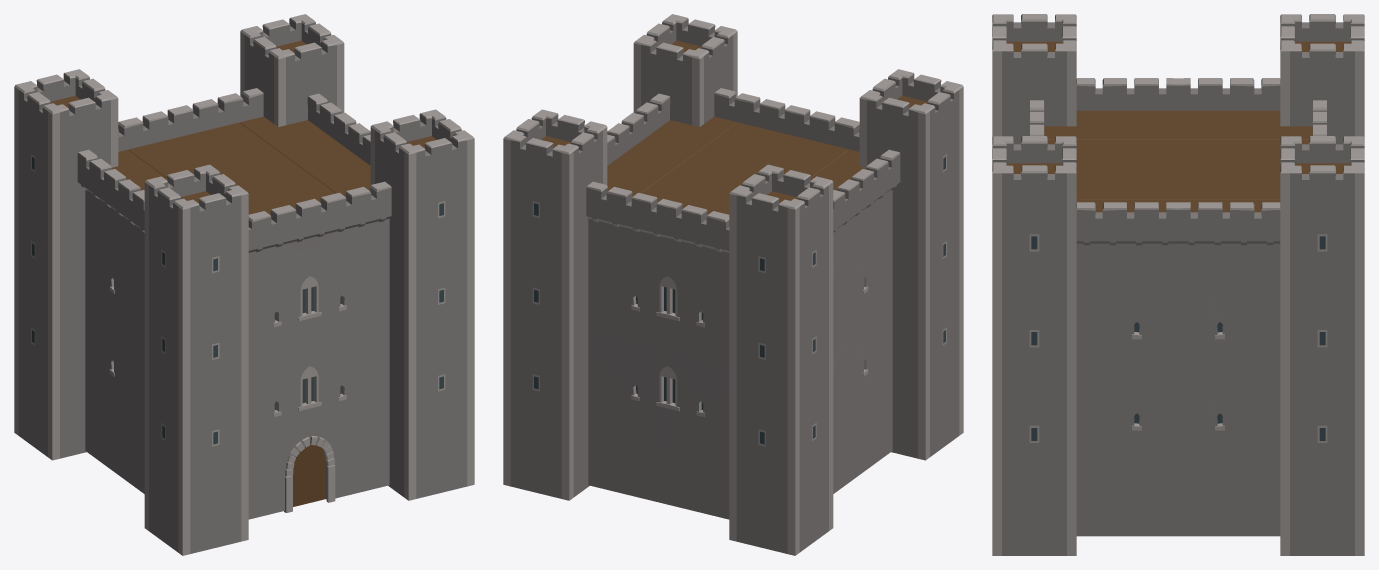
The model's file is Castle.obj.
3 renders of one model, left to right at view 1: azimuth 30°, elevation 25°; view 2: azimuth 150°, elevation 25°; view 3: azimuth 270°, elevation 25°, orthographic. The views are drawn at different scales.
Parts seen in each view (by area): view 1: castle_medieval_Scene; view 2: castle_medieval_Scene; view 3: castle_medieval_Scene.
Part boxes in pixels (x1,y1,x2,y2): castle_medieval_Scene: [14, 14, 474, 555]; castle_medieval_Scene: [503, 14, 963, 555]; castle_medieval_Scene: [992, 14, 1364, 555].
Bounding box in the file's own units: 20.38 × 23.2 × 20.36.
